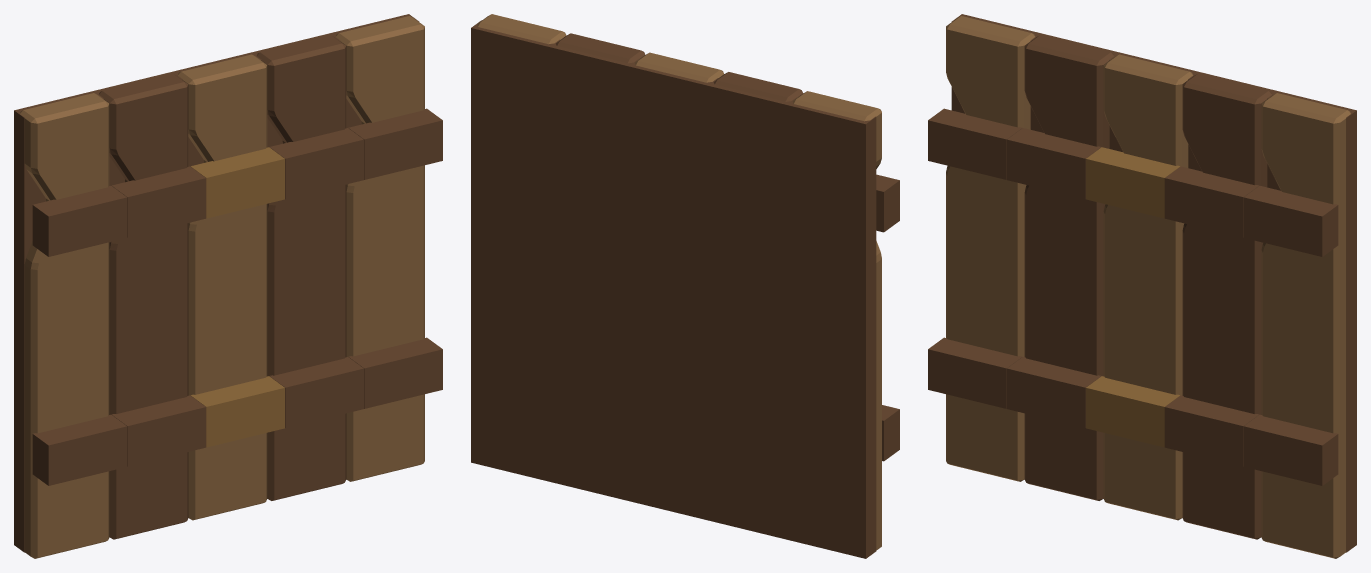
File: TIMBER_BREAK_WALL.shadow.glb
The picture shows the model from 3 angles, left to right: view 1: azimuth 30°, elevation 25°; view 2: azimuth 150°, elevation 25°; view 3: azimuth 330°, elevation 25°; orthographic projection.
Visible parts, largest first — view 1: BreakGroup0_Mesh, BreakGroup1_Mesh, BreakGroup2_Mesh, BreakGroup3_Mesh, BreakGroup4_Mesh; view 2: BreakGroup0_Mesh, BreakGroup4_Mesh, BreakGroup1_Mesh, BreakGroup2_Mesh, BreakGroup3_Mesh; view 3: BreakGroup4_Mesh, BreakGroup3_Mesh, BreakGroup2_Mesh, BreakGroup1_Mesh, BreakGroup0_Mesh.
Boxes of the visible parts, x1,y1,x2,y2 form: BreakGroup0_Mesh: (14,91,127,558); BreakGroup1_Mesh: (93,72,206,539); BreakGroup2_Mesh: (172,52,284,520); BreakGroup3_Mesh: (251,33,363,500); BreakGroup4_Mesh: (330,14,442,481); BreakGroup0_Mesh: (786,91,899,558); BreakGroup4_Mesh: (471,14,566,481); BreakGroup1_Mesh: (707,72,803,539); BreakGroup2_Mesh: (629,52,723,520); BreakGroup3_Mesh: (550,33,645,500); BreakGroup4_Mesh: (1243,91,1356,558); BreakGroup3_Mesh: (1164,72,1277,539); BreakGroup2_Mesh: (1086,52,1198,520); BreakGroup1_Mesh: (1007,33,1119,500); BreakGroup0_Mesh: (928,14,1040,481).
Bounding box in the file's own units: 1.43 × 1.52 × 0.2145.
